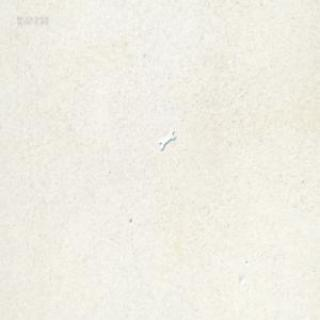Wrenchtrack_idkeyframe: (158, 129, 175, 149)
